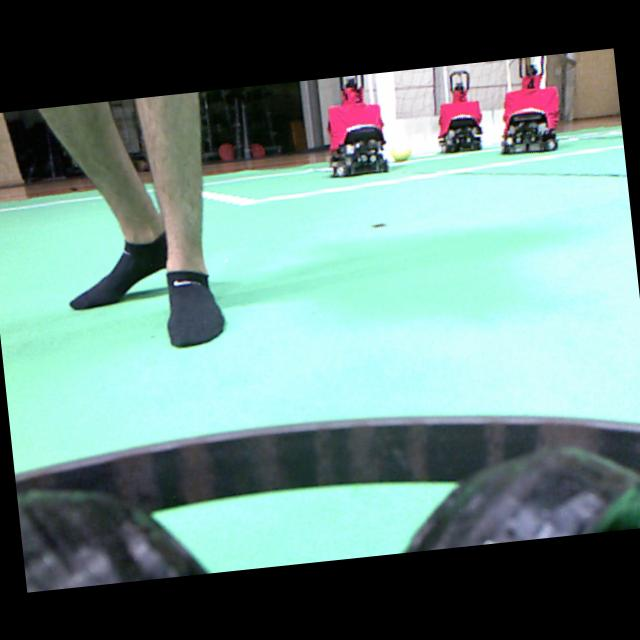ball: (390, 143, 410, 161)
